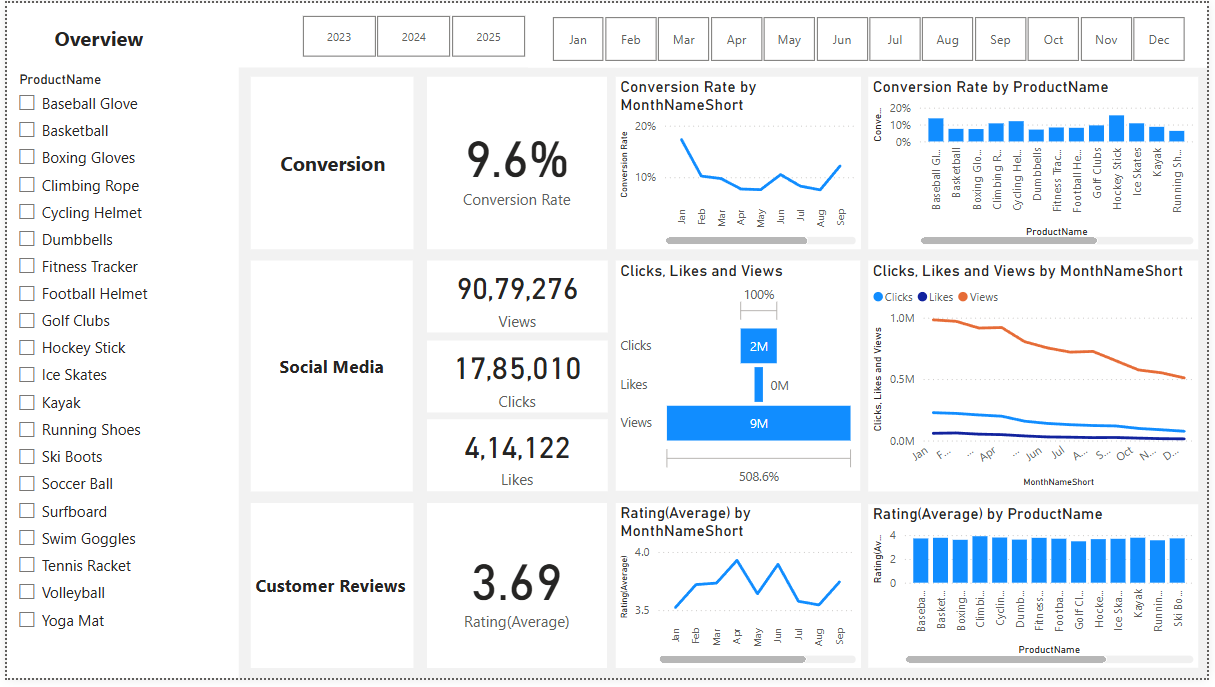

What the dashboard file says about the page in this screenshot:
{"tool":"powerbi","page":{"name":"Overview","canvas":[1280,720],"ordinal":0},"visuals":[{"type":"textbox","box":[0,0,1280.3,68.6],"z":0},{"type":"slicer","fields":{"Values":["dim_products.ProductName"]},"box":[0,68.4,247.5,651.8],"z":1000},{"type":"textbox","box":[260,78.7,173.3,184],"z":2000},{"type":"textbox","box":[260,533.3,173.3,176],"z":3000},{"type":"textbox","box":[260,274.9,172.9,246.3],"z":4000},{"type":"card","fields":{"Values":["_Calculations.Conversion Rate"]},"box":[448,78.7,192,184],"z":5000},{"type":"card","fields":{"Values":["_Calculations.Views"]},"box":[447.8,274.9,192.8,77.1],"z":6000},{"type":"card","fields":{"Values":["_Calculations.Clicks"]},"box":[447.8,359.5,192.8,77.1],"z":7000},{"type":"card","fields":{"Values":["_Calculations.Likes"]},"box":[447.8,444.1,192.8,77.1],"z":8000},{"type":"card","fields":{"Values":["_Calculations.Rating(Average)"]},"box":[448,533.3,192,176],"z":9000},{"type":"slicer","fields":{"Values":["Calender.Year"]},"box":[289.8,6.2,287.4,57.2],"z":10000},{"type":"slicer","fields":{"Values":["Calender.MonthNameShort"]},"box":[556,7.5,724,61],"z":11000},{"type":"lineChart","fields":{"Y":["_Calculations.Conversion Rate"],"Category":["Calender.MonthNameShort"]},"box":[649.3,78.7,261.3,184],"z":12000},{"type":"clusteredColumnChart","fields":{"Category":["dim_products.ProductName"],"Y":["_Calculations.Conversion Rate"]},"box":[918.7,78.7,352,184],"z":13000},{"type":"lineChart","fields":{"Y":["_Calculations.Clicks","_Calculations.Likes","_Calculations.Views"],"Category":["Calender.MonthNameShort"]},"box":[918.7,274.7,352,246.7],"z":14000},{"type":"funnel","fields":{"Y":["_Calculations.Clicks","_Calculations.Likes","_Calculations.Views"]},"box":[648.9,274.5,260.6,245.7],"z":15000},{"type":"lineChart","fields":{"Category":["Calender.MonthNameShort"],"Y":["_Calculations.Rating(Average)"]},"box":[649.3,533.3,261.3,176],"z":16000},{"type":"clusteredColumnChart","fields":{"Category":["dim_products.ProductName"],"Y":["_Calculations.Rating(Average)"]},"box":[918.7,534.7,352,174.7],"z":17000}]}

Visuals, with their boxes in screenshot pixels (x1, y1, x2, y2), scaled from the page's 1280x720 canvas onto the 1215x687 screenshot:
textbox: {"left": 0, "top": 0, "right": 1214, "bottom": 65}
slicer - dim_products.ProductName: {"left": 0, "top": 65, "right": 235, "bottom": 686}
textbox: {"left": 247, "top": 75, "right": 411, "bottom": 251}
textbox: {"left": 247, "top": 509, "right": 411, "bottom": 677}
textbox: {"left": 247, "top": 262, "right": 411, "bottom": 497}
card - _Calculations.Conversion Rate: {"left": 425, "top": 75, "right": 608, "bottom": 251}
card - _Calculations.Views: {"left": 425, "top": 262, "right": 608, "bottom": 336}
card - _Calculations.Clicks: {"left": 425, "top": 343, "right": 608, "bottom": 417}
card - _Calculations.Likes: {"left": 425, "top": 424, "right": 608, "bottom": 497}
card - _Calculations.Rating(Average): {"left": 425, "top": 509, "right": 608, "bottom": 677}
slicer - Calender.Year: {"left": 275, "top": 6, "right": 548, "bottom": 60}
slicer - Calender.MonthNameShort: {"left": 528, "top": 7, "right": 1214, "bottom": 65}
lineChart - _Calculations.Conversion Rate x Calender.MonthNameShort: {"left": 616, "top": 75, "right": 864, "bottom": 251}
clusteredColumnChart - dim_products.ProductName x _Calculations.Conversion Rate: {"left": 872, "top": 75, "right": 1206, "bottom": 251}
lineChart - _Calculations.Clicks x _Calculations.Likes: {"left": 872, "top": 262, "right": 1206, "bottom": 498}
funnel - _Calculations.Clicks x _Calculations.Likes: {"left": 616, "top": 262, "right": 863, "bottom": 496}
lineChart - Calender.MonthNameShort x _Calculations.Rating(Average): {"left": 616, "top": 509, "right": 864, "bottom": 677}
clusteredColumnChart - dim_products.ProductName x _Calculations.Rating(Average): {"left": 872, "top": 510, "right": 1206, "bottom": 677}
